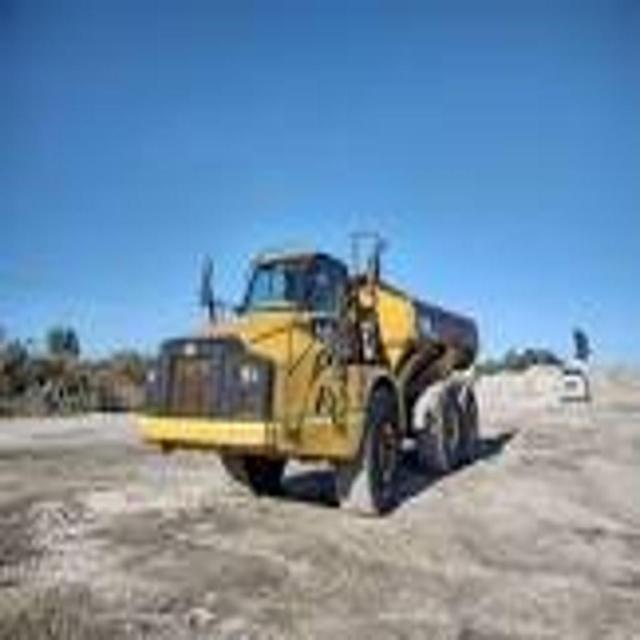dump_truck: (140, 230, 493, 532)
